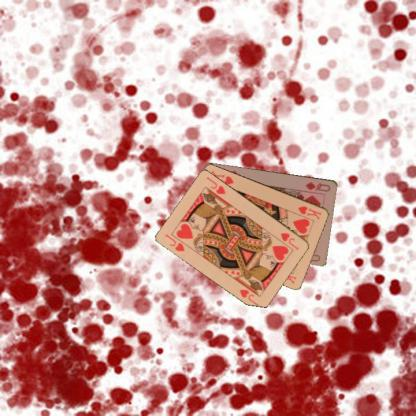Jh: (163, 231, 186, 253), (278, 230, 300, 251)
Kh: (296, 203, 323, 221)
Qd: (303, 179, 332, 193)
